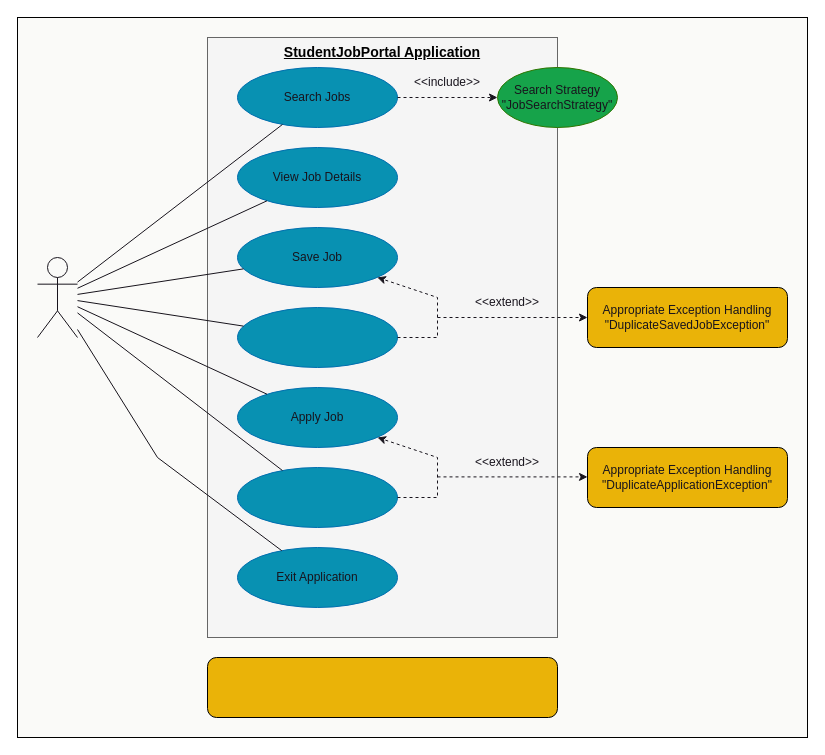
The diagram is 825 pixels wide and 755 high, and some of its shapes have lost their labels. Each missing label, with the centre of its shape:
"Services in Service Layer contain Business Logic" belongs at (x=382, y=687).
"Student" belongs at (x=57, y=297).
"View Applied Jobs" belongs at (x=317, y=497).
"View Saved Jobs" belongs at (x=317, y=337).
